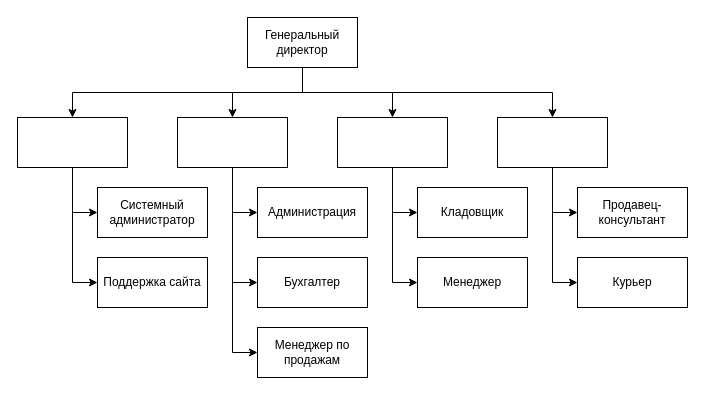
Image size: 705x395. Some labels were removed from this diagram. The box of each missing label's shape, as (x1, y1, x2, y2) in pixels:
Отдел администрации: (176, 116, 288, 168)
Отдел работы в магазине: (496, 116, 608, 168)
Отдел технической поддержки: (16, 116, 128, 168)
Отдел хранения: (336, 116, 448, 168)
